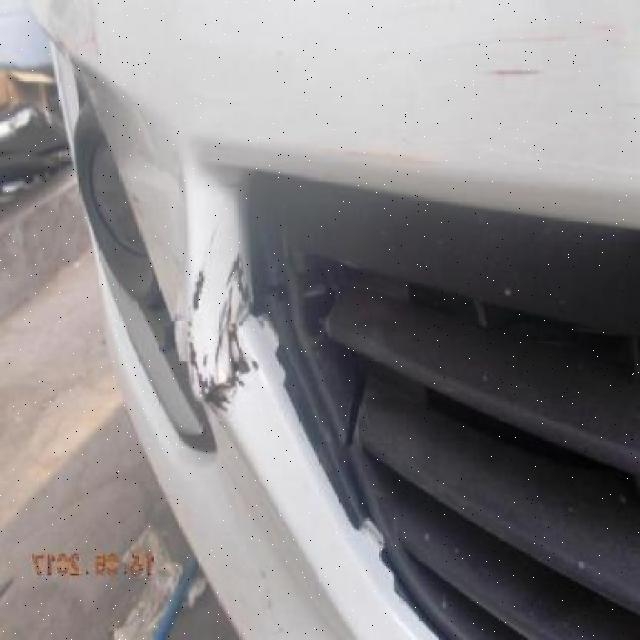damage: (283, 245, 367, 452), (168, 242, 261, 417), (460, 20, 624, 81), (267, 130, 431, 172), (61, 2, 108, 63)
